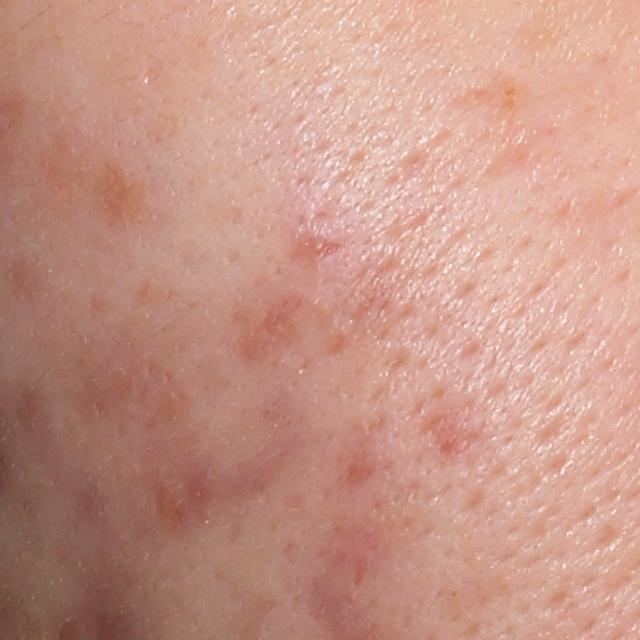atrophic_scar: (482, 142, 530, 181)
